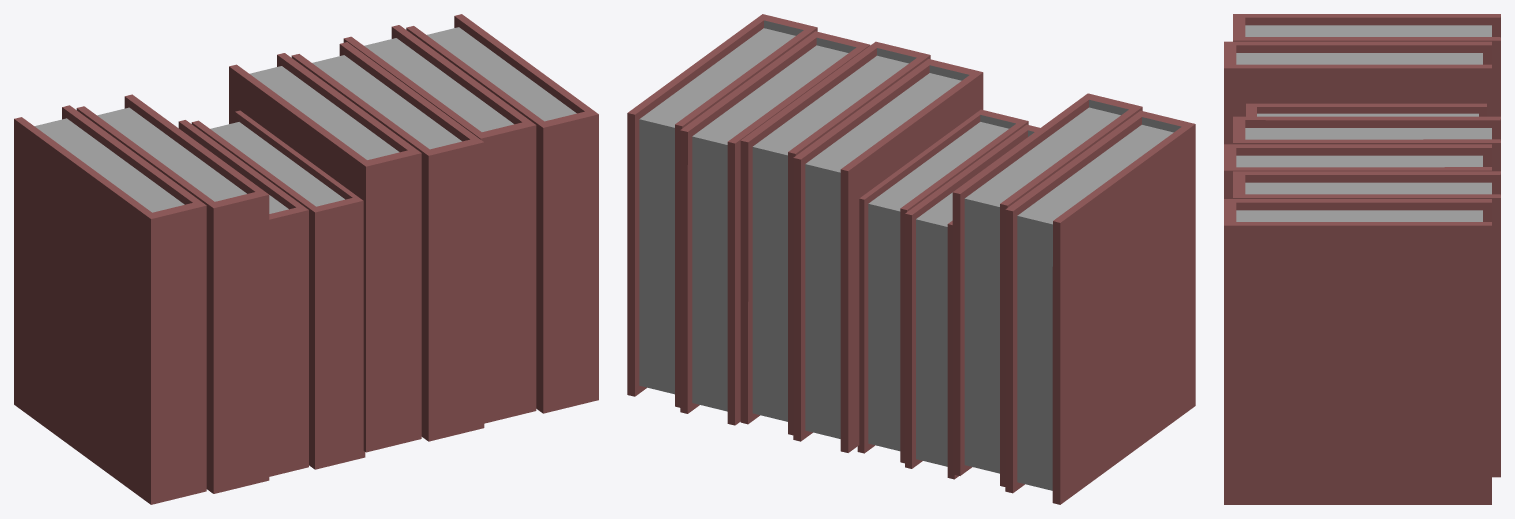
The model's file is placeholder_stack_of_books_01.fbx.
3 views of the same model, side by side, from view 1: azimuth 30°, elevation 25°; view 2: azimuth 150°, elevation 25°; view 3: azimuth 270°, elevation 25° (orthographic). The views are drawn at different scales.
Parts seen in each view (by area): view 1: placeholder_stack_of_books_01; view 2: placeholder_stack_of_books_01; view 3: placeholder_stack_of_books_01.
Boxes of the visible parts, x1,y1,x2,y2 form: placeholder_stack_of_books_01: (14,14,598,504); placeholder_stack_of_books_01: (627,14,1195,504); placeholder_stack_of_books_01: (1224,14,1500,504).
Size of the model in its own units: 0.4058 by 0.2564 by 0.2245.
